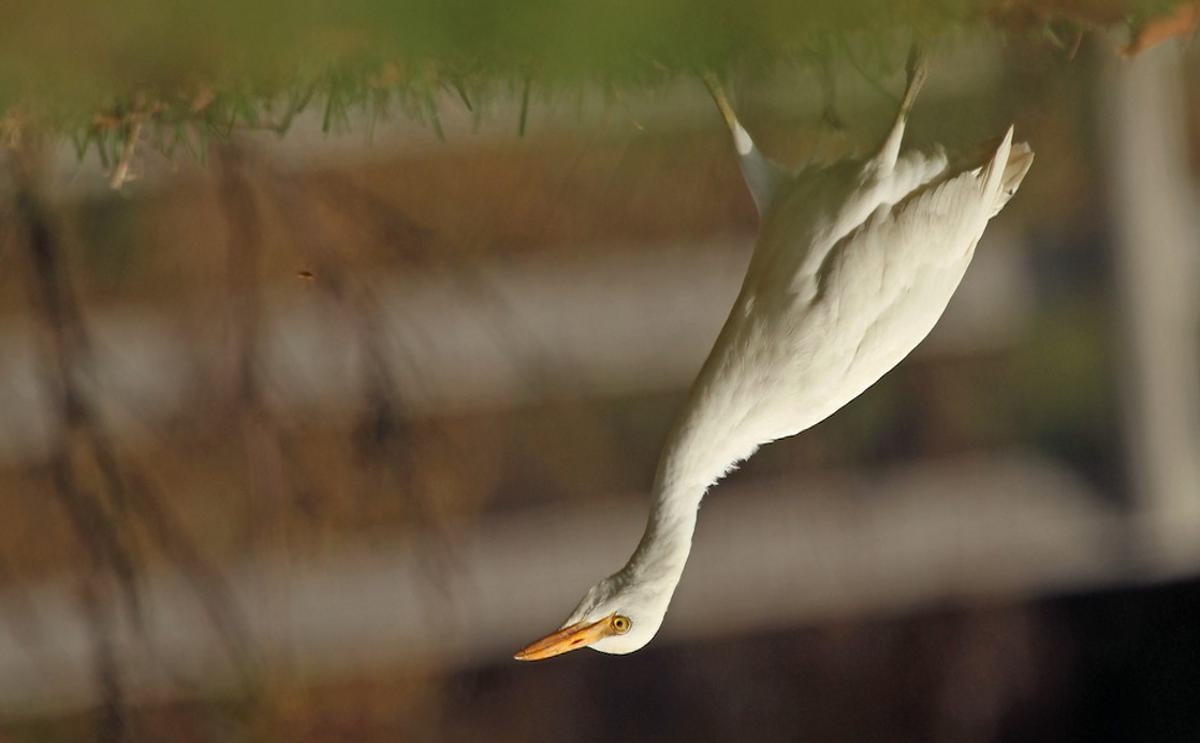egret: (485, 69, 1070, 703)
